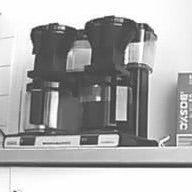empty coffee: (22, 80, 75, 135)
not empty coffee: (77, 76, 133, 133)
